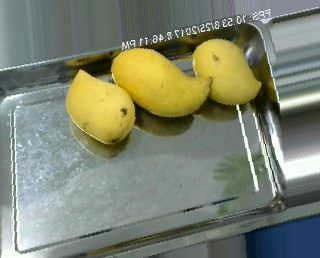Mango: (109, 49, 208, 122), (62, 65, 143, 151), (188, 37, 265, 110)
